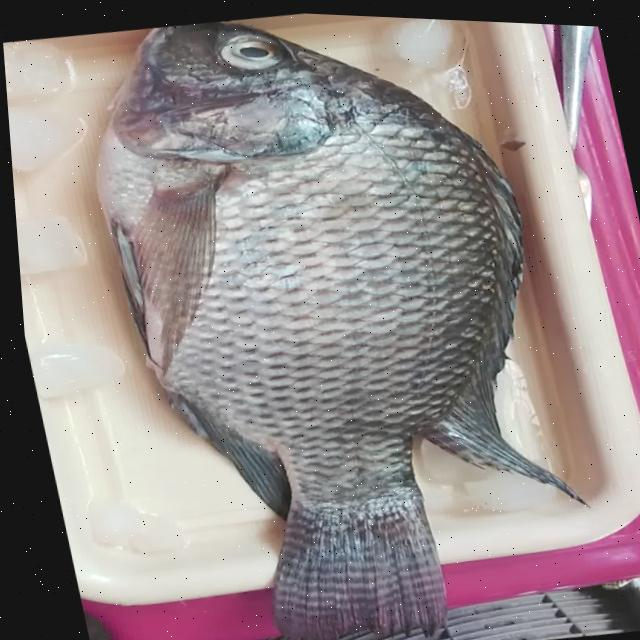Fresh: (75, 58, 543, 437), (187, 12, 311, 85)
